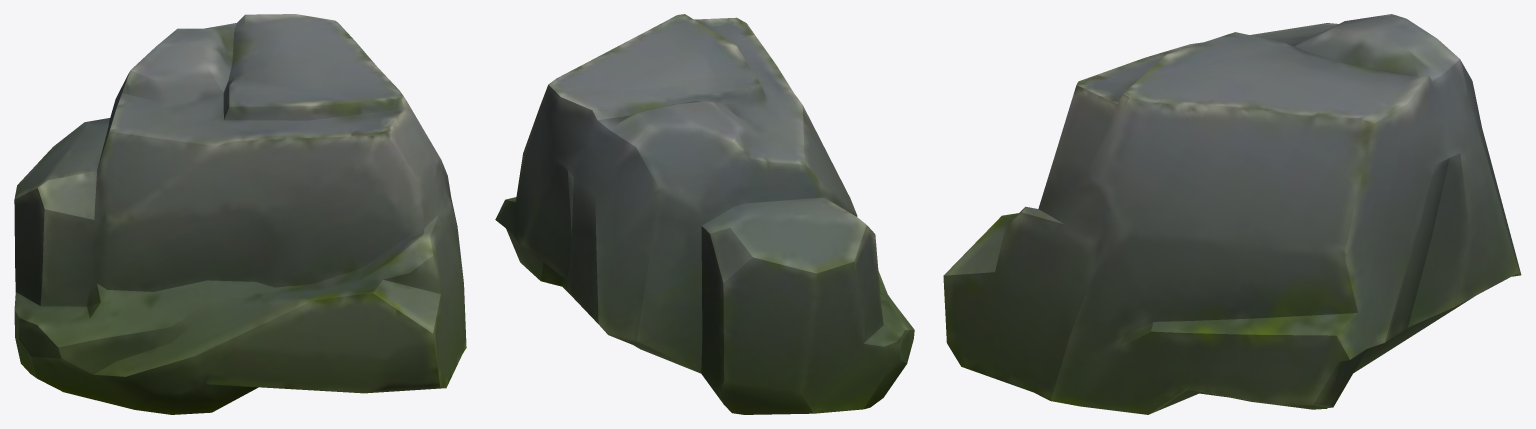
File: Rock_Medium_3.glb
The picture shows the model from 3 angles, left to right: view 1: azimuth 30°, elevation 25°; view 2: azimuth 150°, elevation 25°; view 3: azimuth 270°, elevation 25°; orthographic projection. The views are drawn at different scales.
Visible parts, largest first — view 1: Rock_Medium_3; view 2: Rock_Medium_3; view 3: Rock_Medium_3.
Boxes of the visible parts, x1=… form: Rock_Medium_3: x1=14, y1=14, x2=466, y2=414; Rock_Medium_3: x1=495, y1=14, x2=914, y2=414; Rock_Medium_3: x1=943, y1=14, x2=1521, y2=414.
Size of the model in its own units: 3.42 by 2.32 by 3.48.
Materials: 1 (1 with a texture image).
